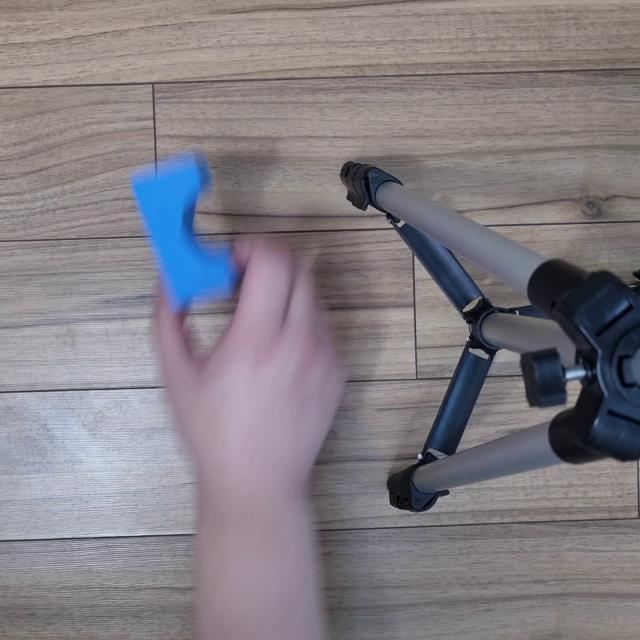block: (122, 146, 244, 314)
hand: (164, 236, 362, 479)
